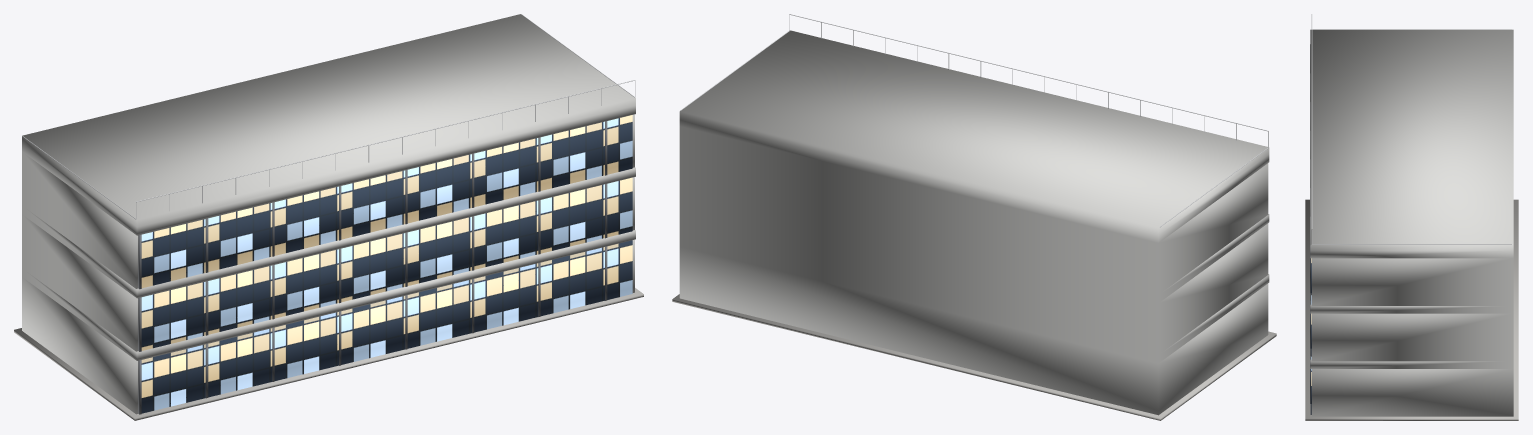
File: hospitality_3f.glb
3 renders of one model, left to right at view 1: azimuth 30°, elevation 25°; view 2: azimuth 150°, elevation 25°; view 3: azimuth 270°, elevation 25°, orthographic. The views are drawn at different scales.
Visible parts, largest first — view 1: hospitality_3f; view 2: hospitality_3f; view 3: hospitality_3f.
Boxes of the visible parts, x1=… form: hospitality_3f: x1=14, y1=14, x2=643, y2=420; hospitality_3f: x1=672, y1=14, x2=1276, y2=420; hospitality_3f: x1=1305, y1=14, x2=1518, y2=420.
Bounding box in the file's own units: 30.6 × 12.37 × 12.6.
